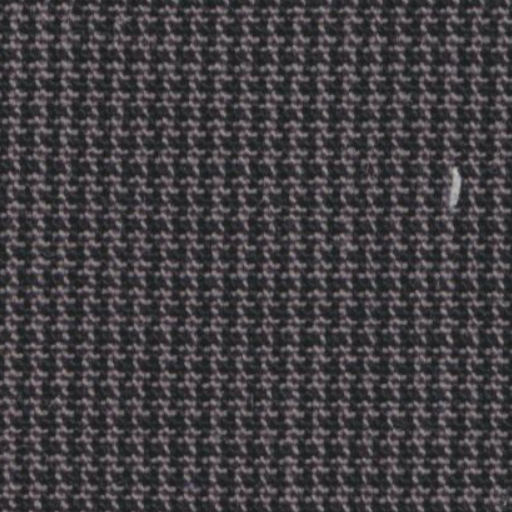DuanSha: (420, 155, 484, 221)
